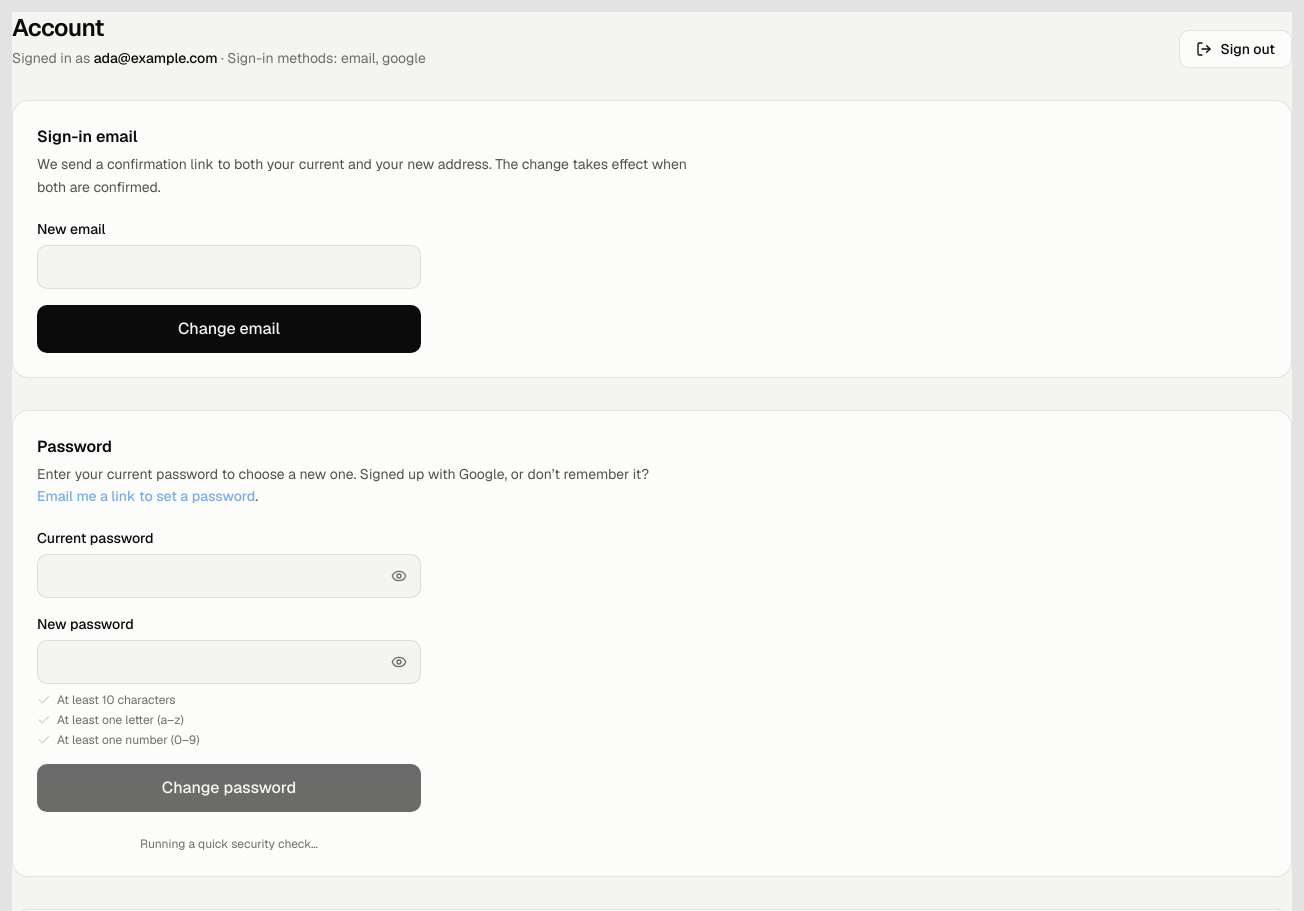
Test case: AccountSettings › changing the email › shows why the change failed, and clears it once a retry works
This screenshot has width=1304, height=911.
Type "bad@example.com" into the field labelled "New email".
click(229, 266); type("bad@example.com")  # box [37,244,421,288]
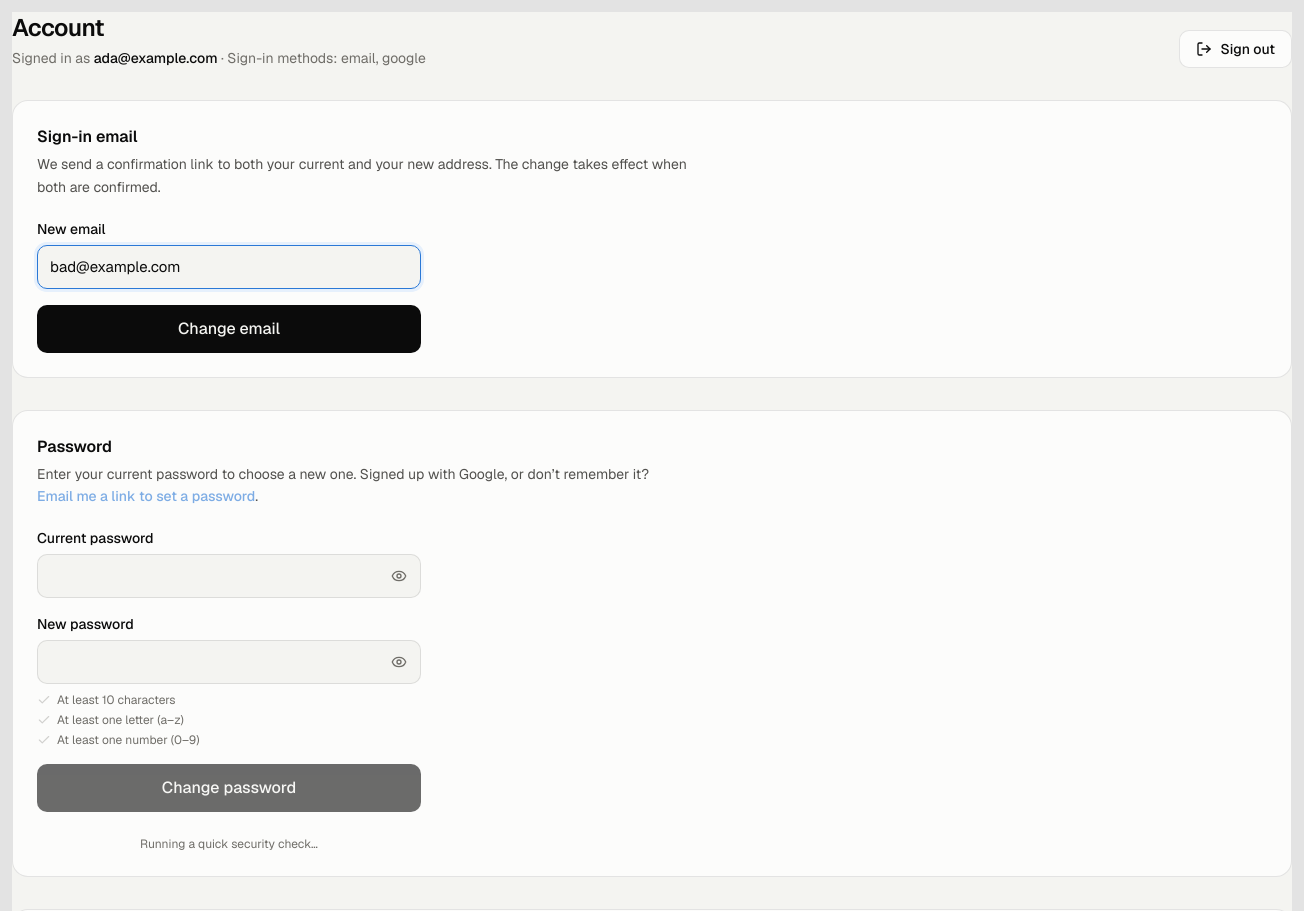
Click the button "Change email".
click(229, 328)  # box [37,304,421,352]
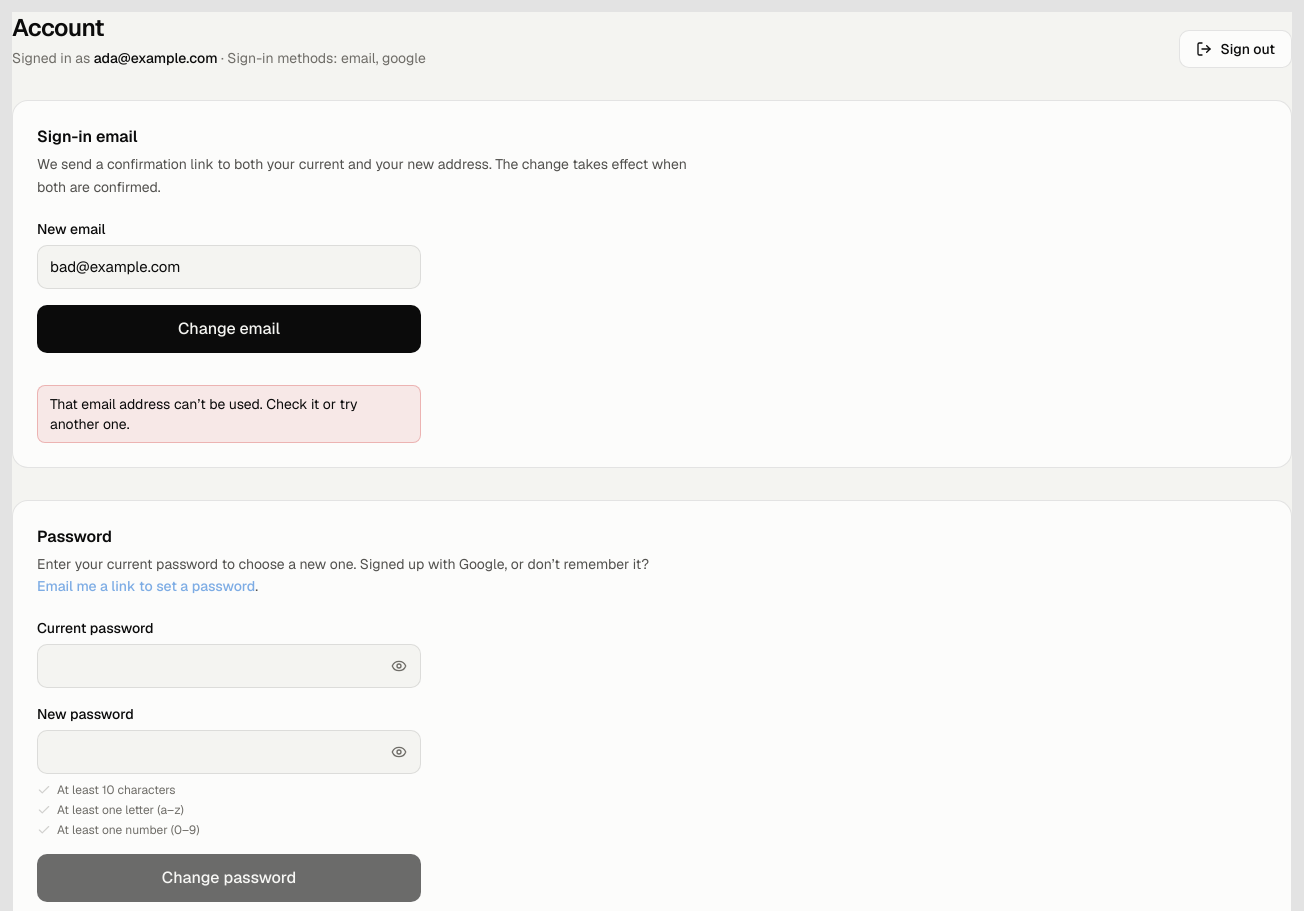
Result: the message reads "That email address can’t be used. Check it or try another one." at [50,394,358,432]
Replace the text in the field labelled "New email" with "other@example.com" at (229, 266), box [37,244,421,288]
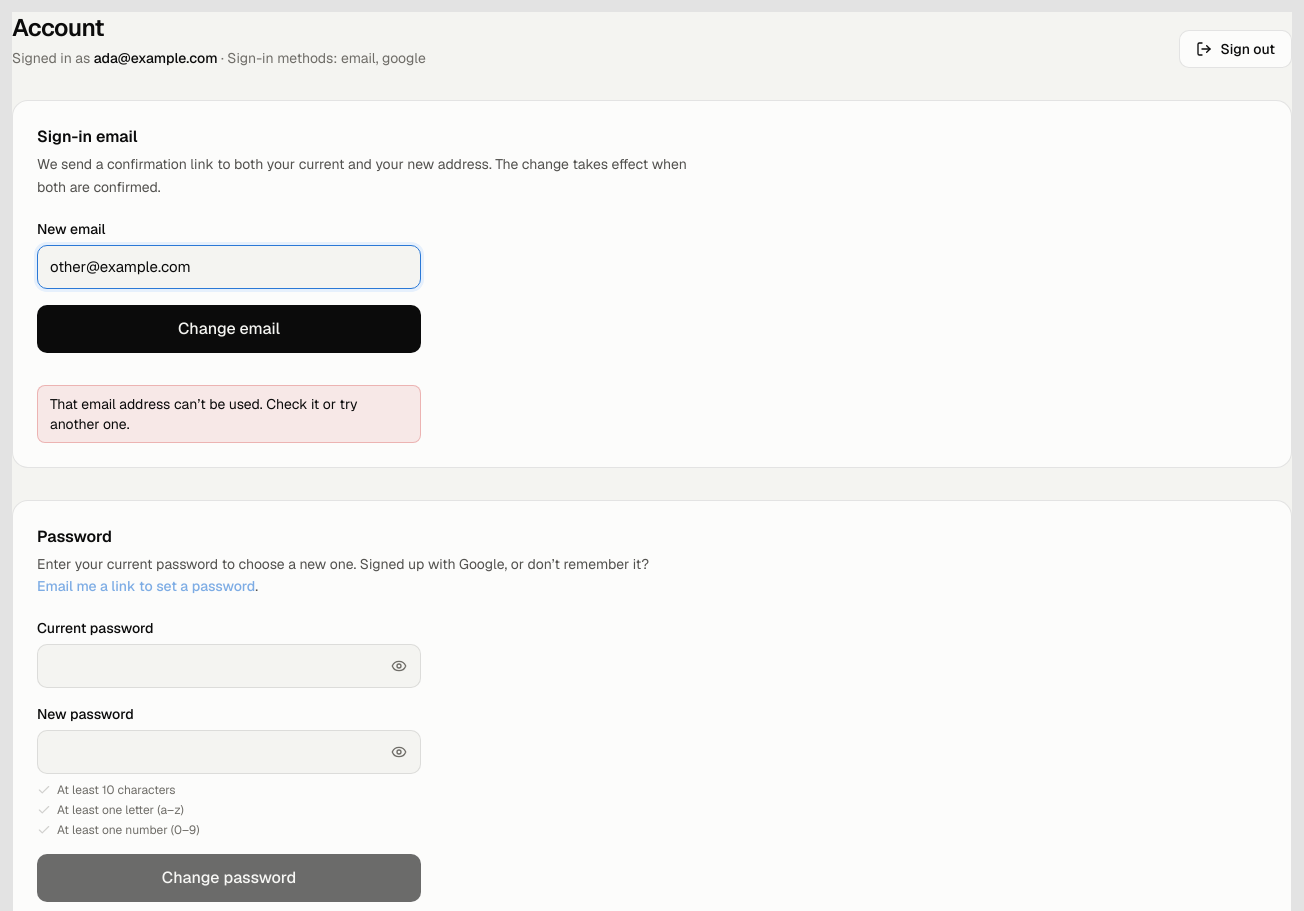
Click the button "Change email".
click(229, 328)  # box [37,304,421,352]
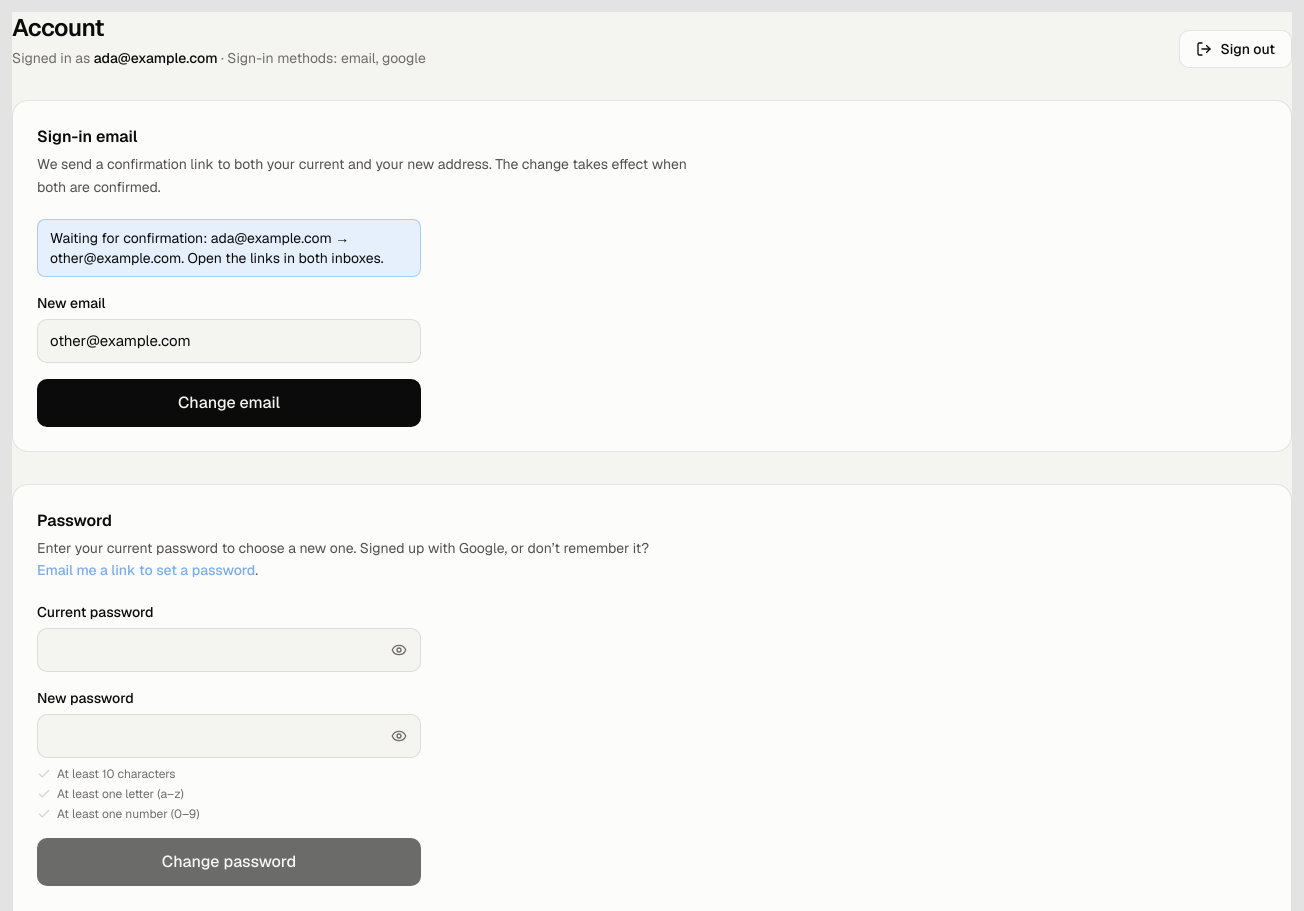
Result: the 1st message shows "→ other@example.com" at [50,228,384,266]
